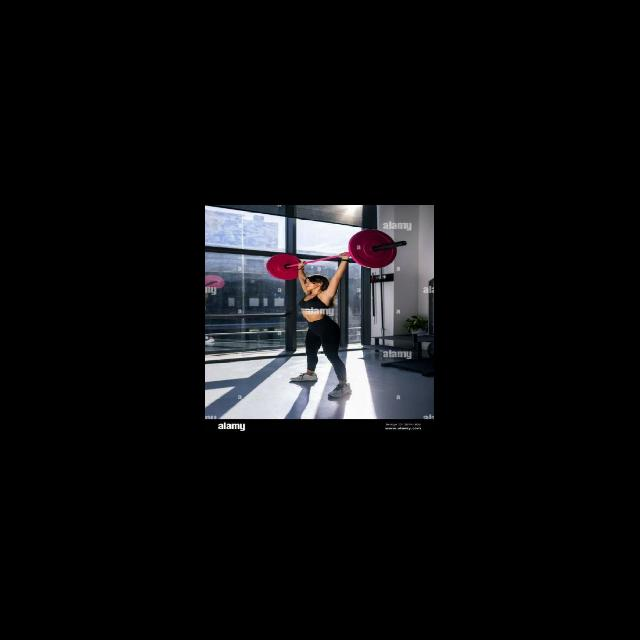barbell: (343, 225, 404, 272)
